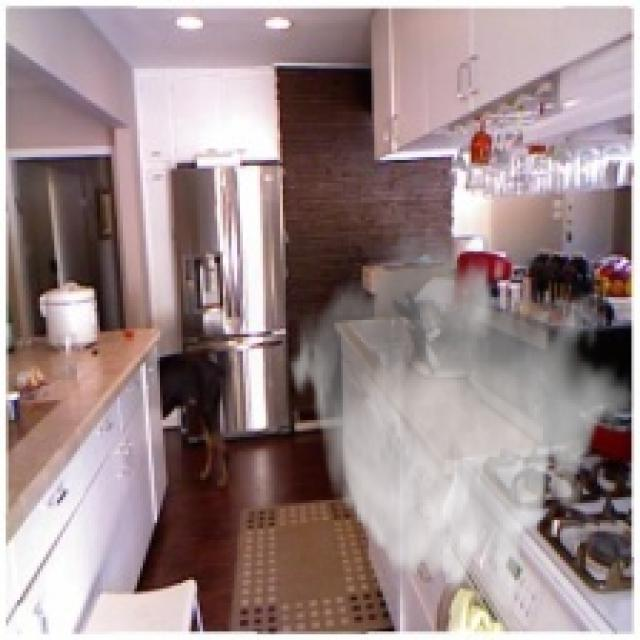smoke: (286, 217, 634, 623)
